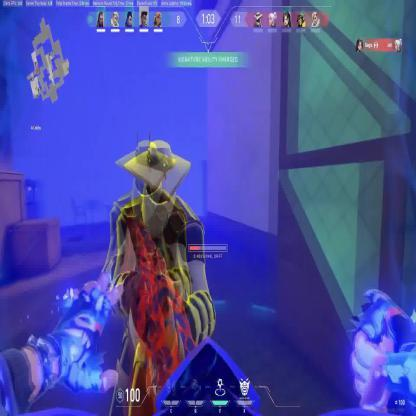enemy: (94, 132, 217, 416)
enemy_head: (139, 140, 178, 232)
